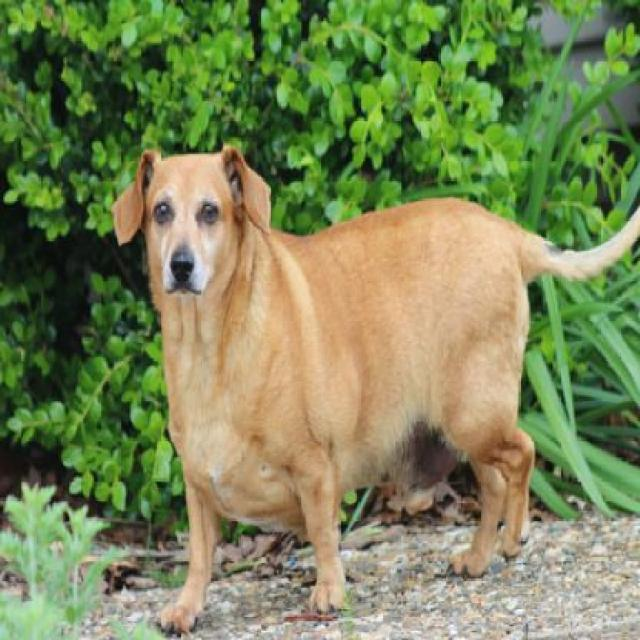Dog: (111, 130, 638, 638)
